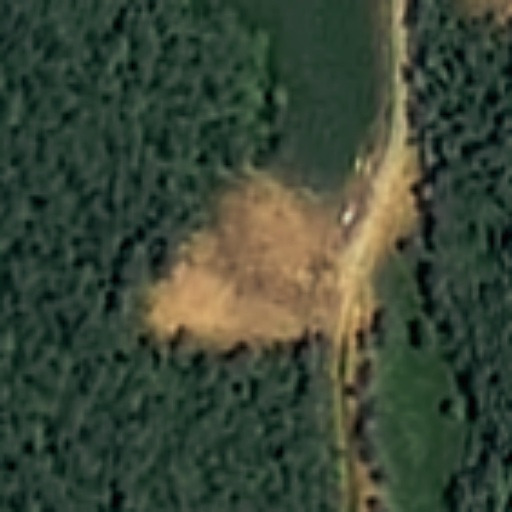landslide: (147, 176, 343, 340)
